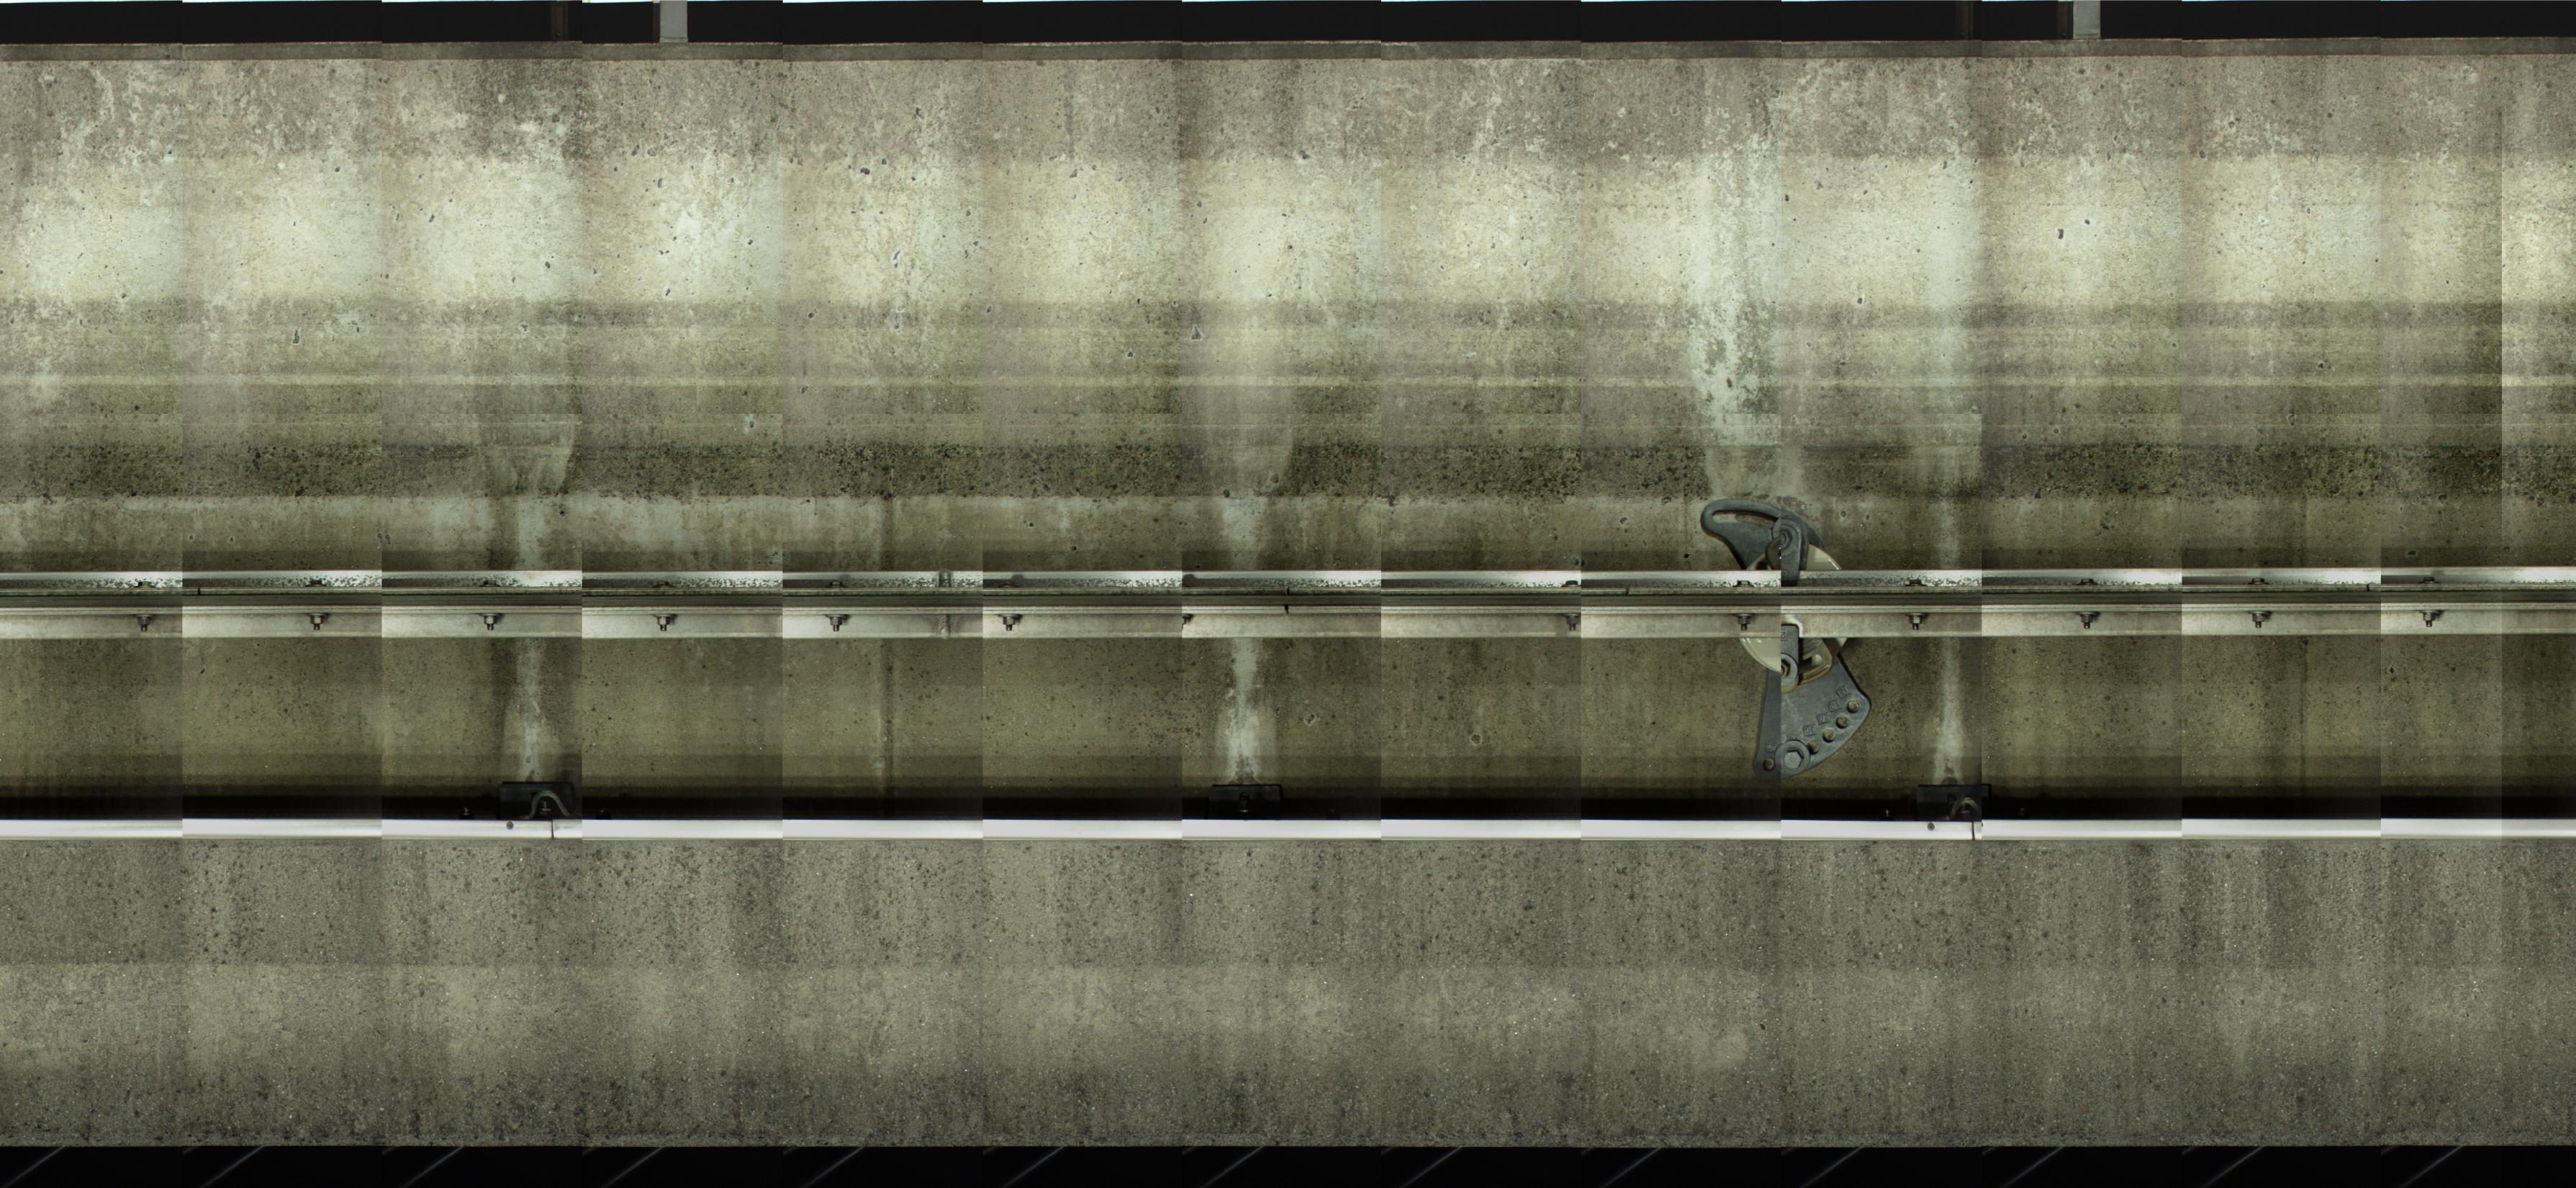concrete: (3, 49, 2573, 569), (8, 634, 2564, 1147)
